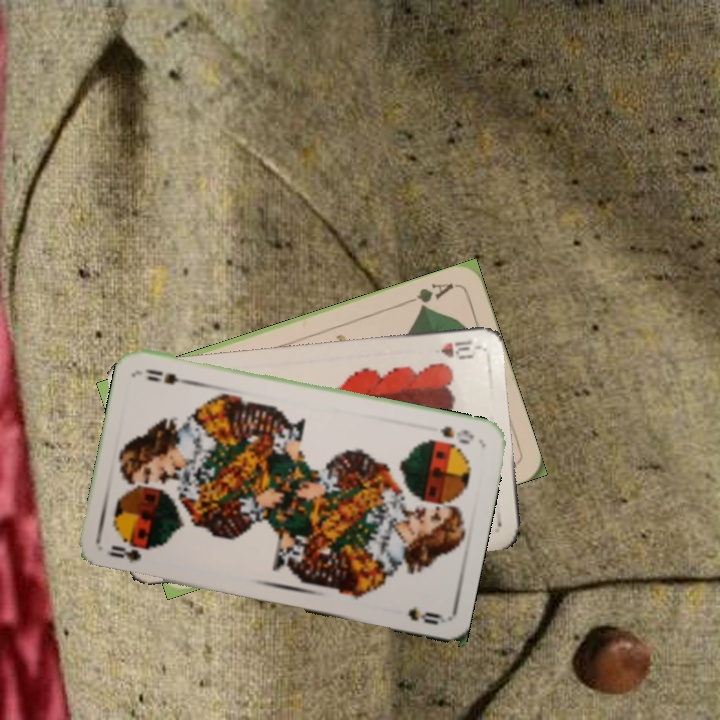GA: (401, 278, 456, 312)
H10: (436, 336, 476, 361)
SO: (424, 422, 477, 447), (102, 541, 155, 566)
